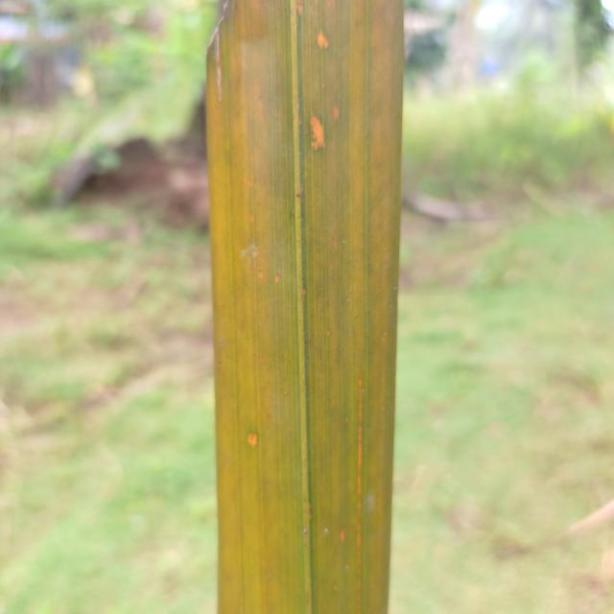Megnesium: (202, 0, 402, 614)
